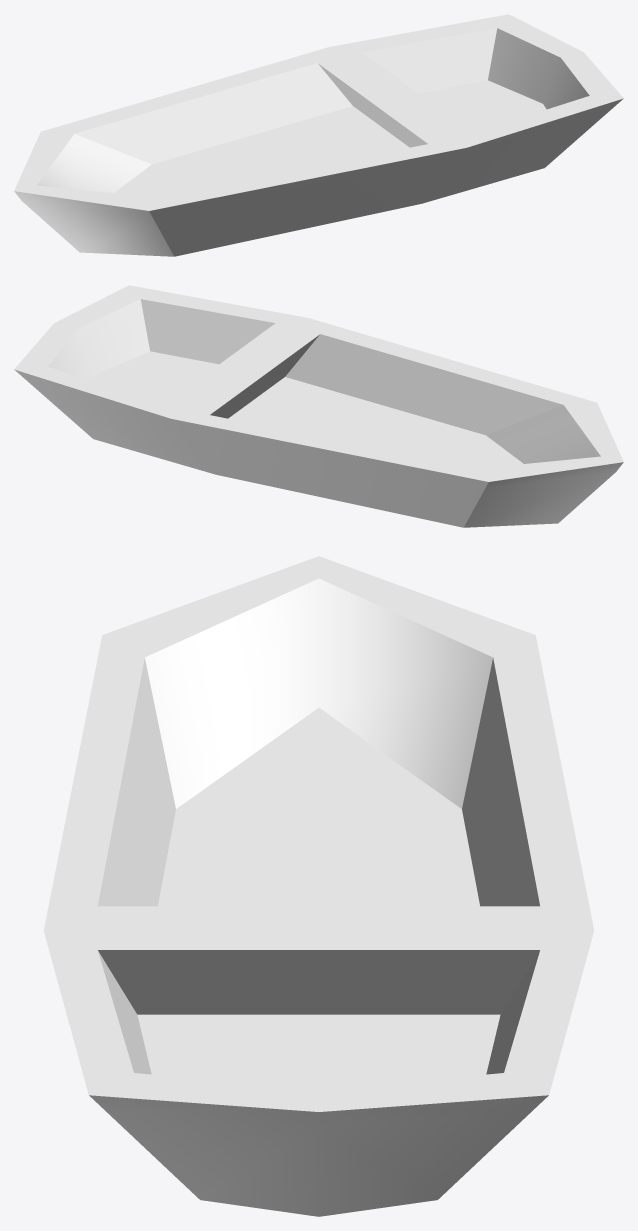
Rendered from SmallBoatA.fbx.
3 views of the same model, one above another, from view 1: azimuth 30°, elevation 25°; view 2: azimuth 150°, elevation 25°; view 3: azimuth 270°, elevation 25° (orthographic). The views are drawn at different scales.
Visible parts, largest first — view 1: SmallBoatA; view 2: SmallBoatA; view 3: SmallBoatA.
Part boxes in pixels (left/top/right/bottom): SmallBoatA: left=14, top=14, right=623, bottom=256; SmallBoatA: left=14, top=285, right=623, bottom=527; SmallBoatA: left=43, top=556, right=594, bottom=1216.
Bounding box in the file's own units: 326 × 42.37 × 136.
1 material, 1 textured.
